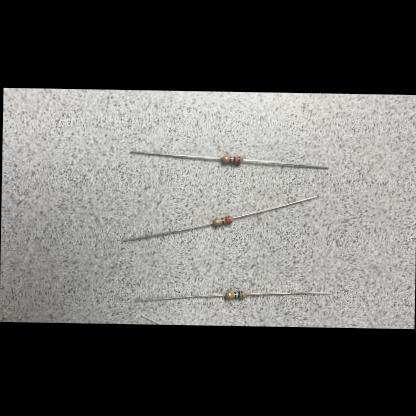resistor: (223, 290, 244, 298), (212, 216, 232, 224), (221, 156, 242, 163)
wire: (233, 194, 315, 219), (122, 220, 211, 243), (134, 292, 222, 303), (129, 150, 219, 160), (242, 159, 328, 168), (246, 291, 330, 296)
